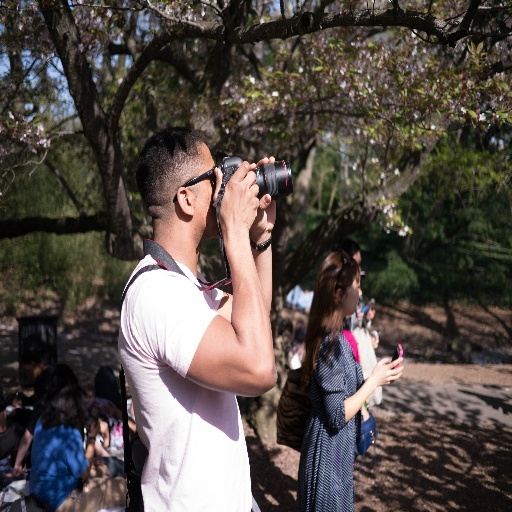hand: (216, 164, 280, 274), (248, 153, 277, 239), (370, 355, 404, 385), (10, 463, 29, 478), (365, 304, 377, 323), (86, 421, 100, 437), (370, 331, 379, 352), (361, 404, 370, 423), (355, 307, 364, 324)
